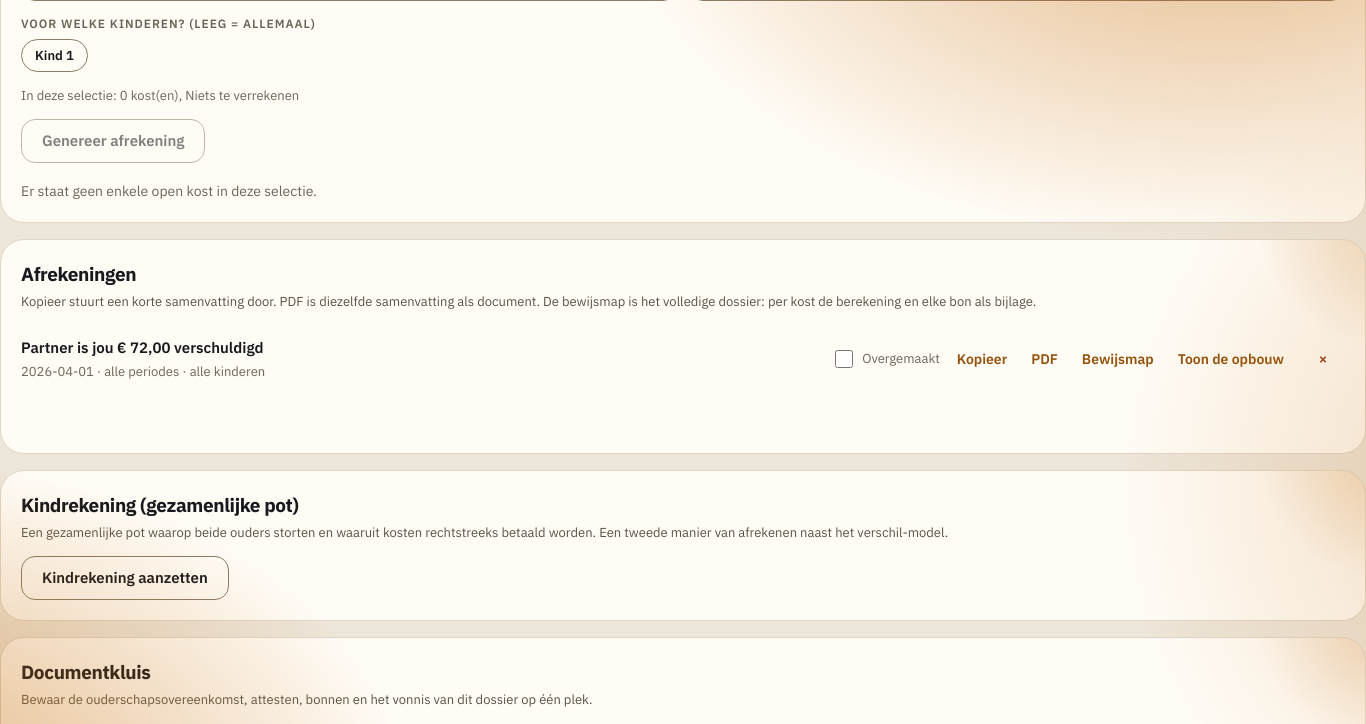
Scenario: DossierSectie — de bewijsmap › meldt ook wanneer de gewone PDF mislukt
(page scrolled)
Click the button with aria-label "PDF van de afrekening" at (1045, 359), box [1024,342,1065,376]
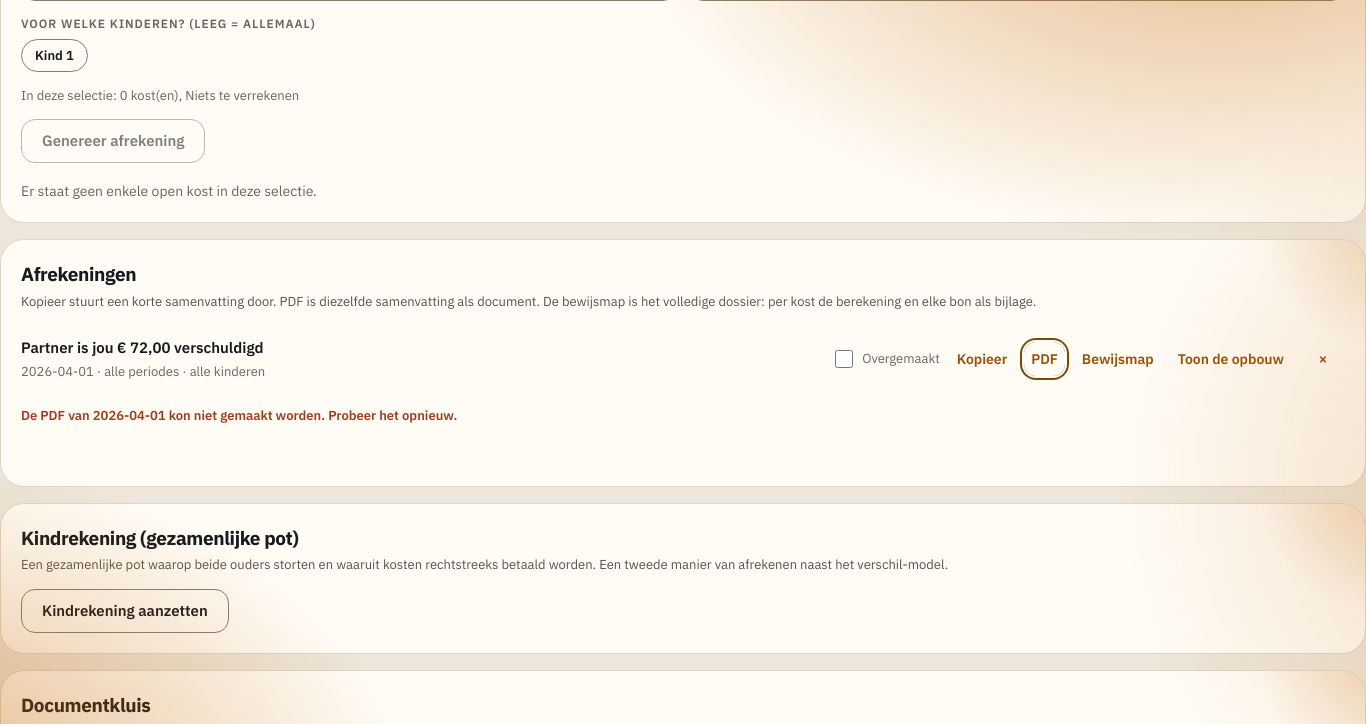
Expected: the message "De PDF van 2026-04-01 kon niet gemaakt worden. Probeer het opnieuw." is shown, [21,407,457,424]
